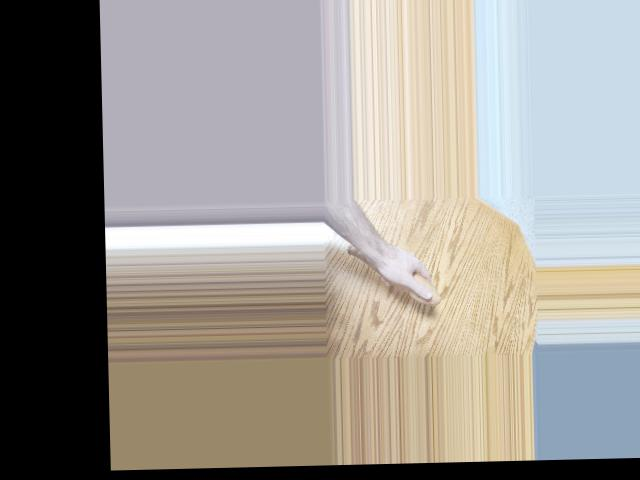sweet_potato: (344, 238, 442, 306)
